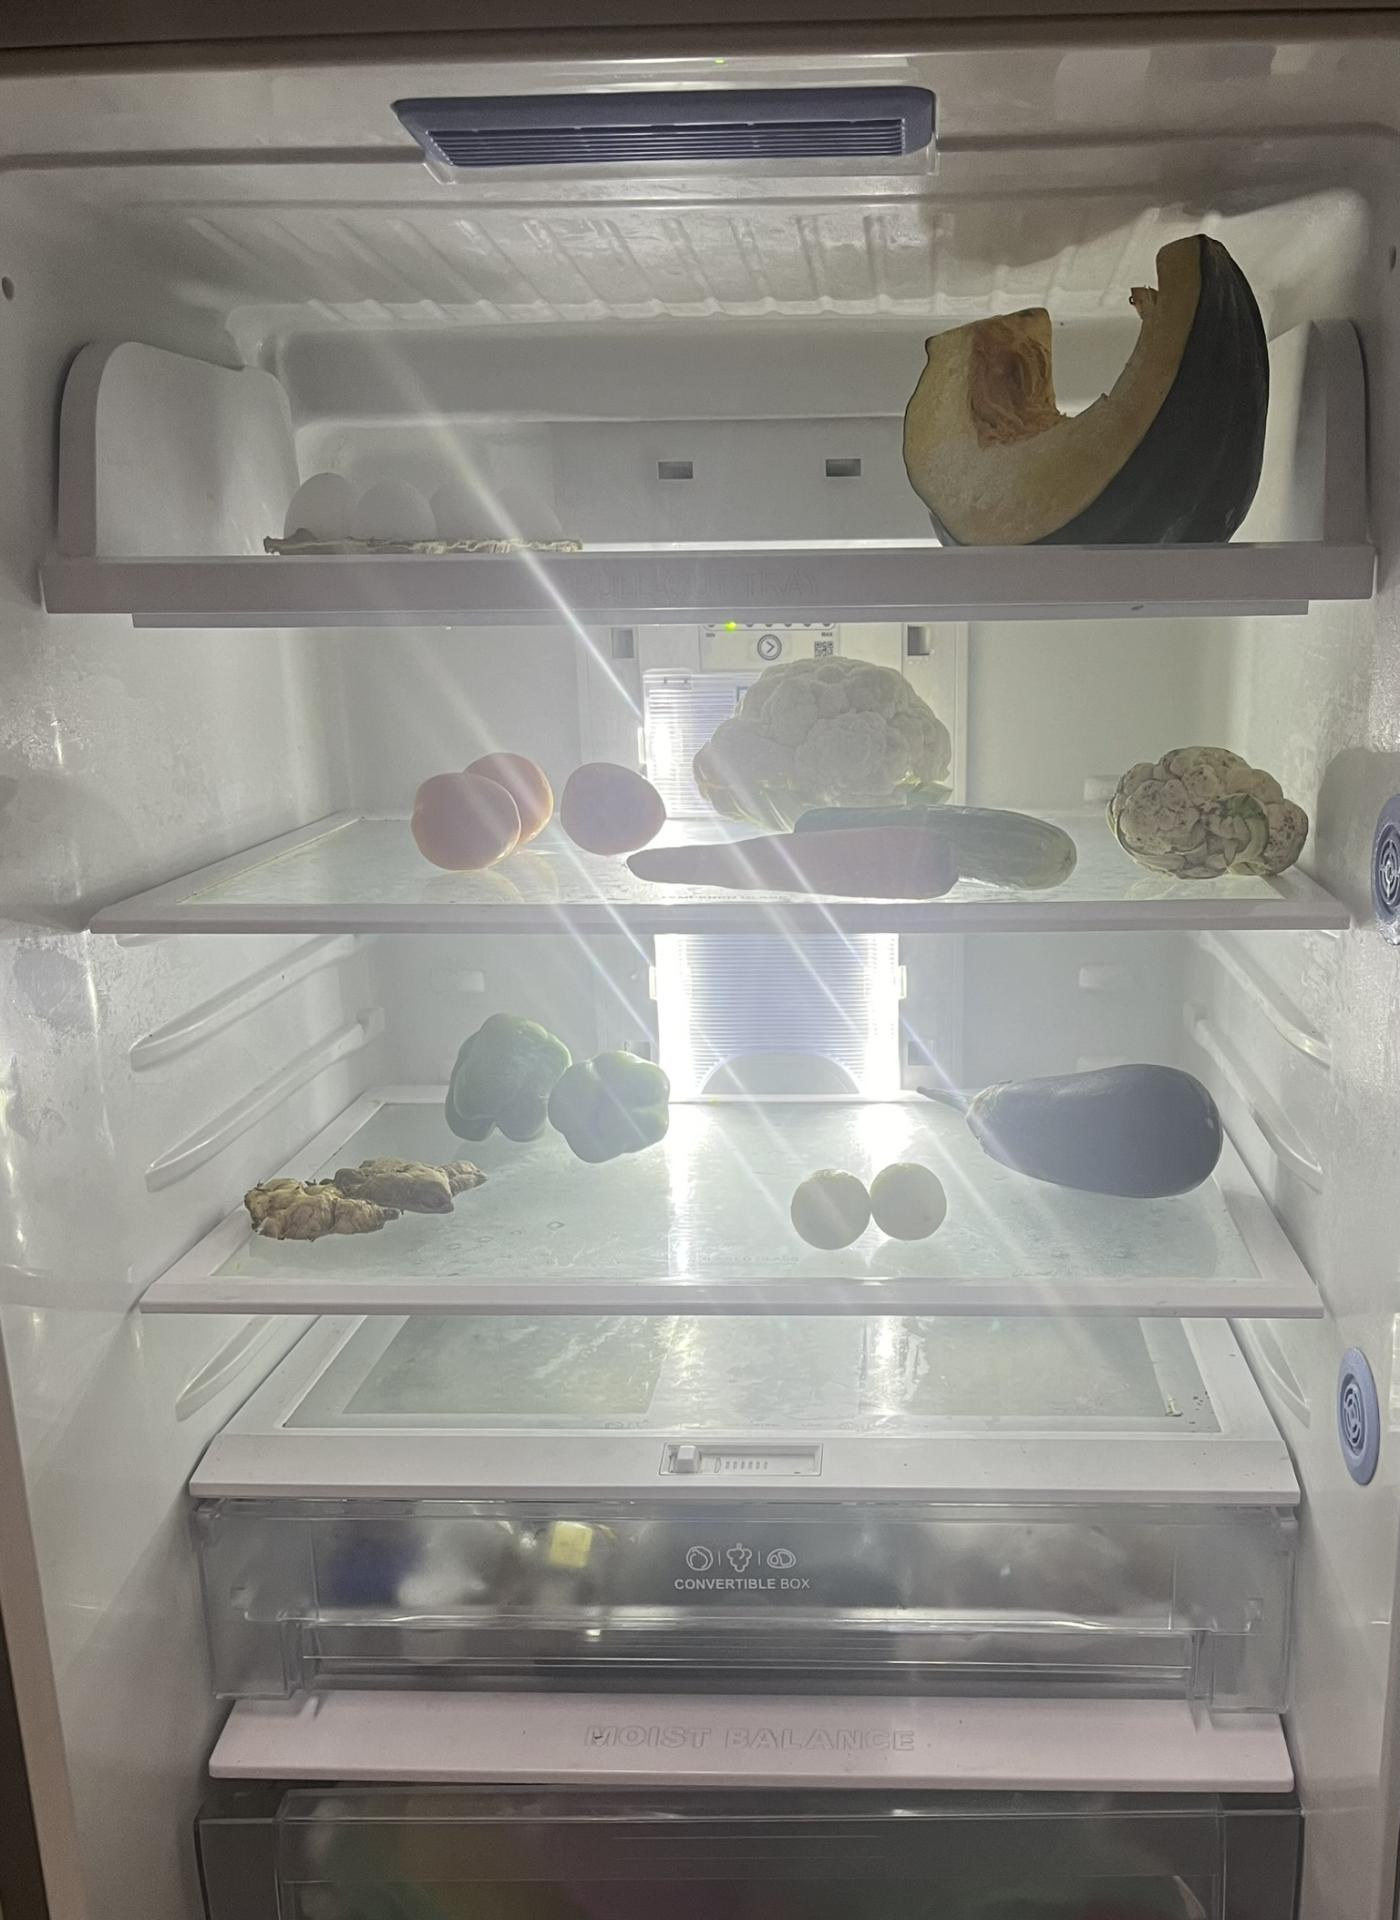bread: (0, 1285, 70, 1917)
brinjal: (933, 1054, 1229, 1201)
capsicum: (444, 1020, 681, 1185)
carrots: (629, 824, 969, 903)
cauliflower: (708, 659, 954, 818), (1109, 742, 1314, 882)
cucumber: (796, 803, 1069, 900)
egg: (273, 471, 553, 540)
ginger: (239, 1149, 485, 1242)
lemon: (786, 1152, 951, 1269)
pumpkin: (904, 216, 1279, 552)
tomato: (406, 748, 559, 874), (561, 759, 674, 860)
